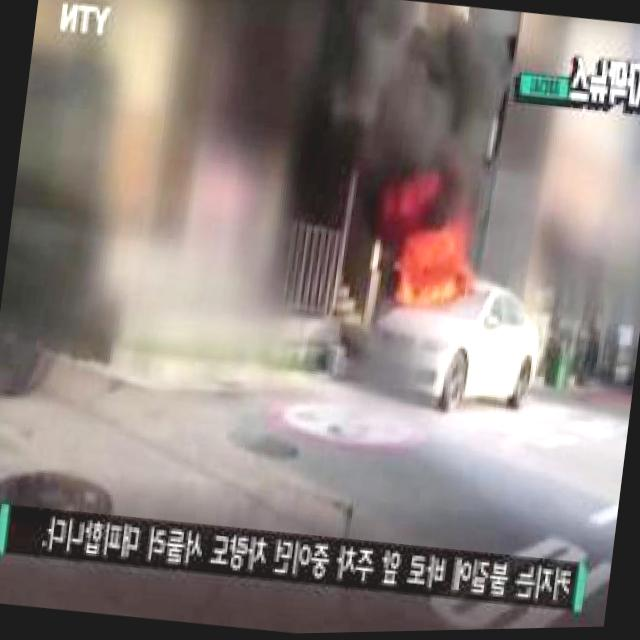Fire: (382, 216, 479, 316)
Smoke: (314, 0, 524, 237)
